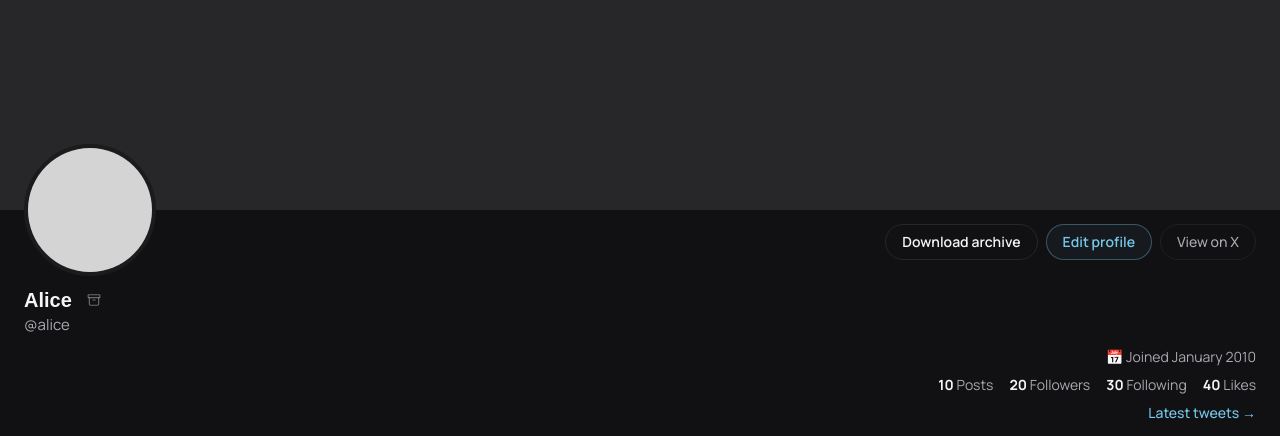
puts the owner edit control immediately before the subtle X link
What coordinates should you click on to do the following:
click the button "Edit profile"
I would click on:
 (1099, 242)
Its box is [1046,224,1152,260].
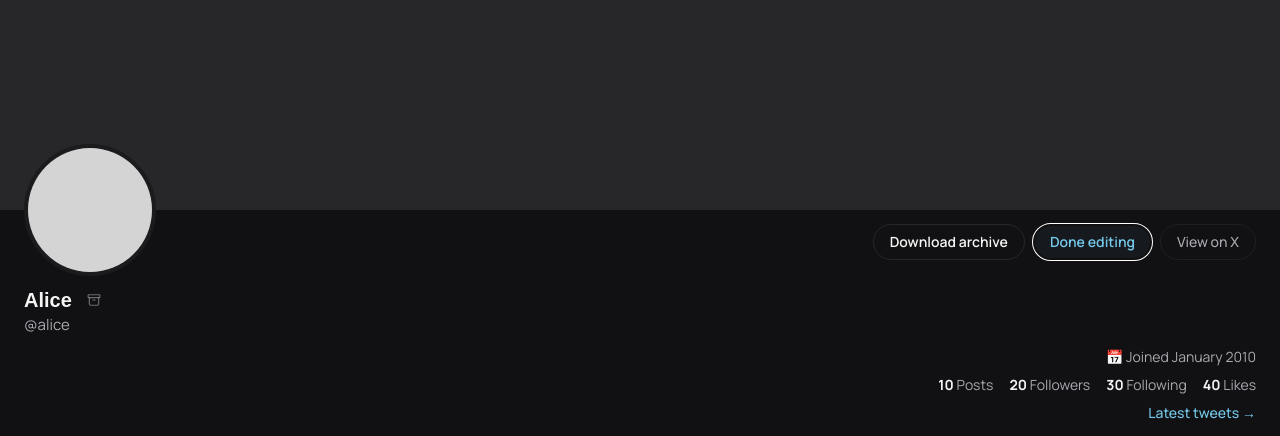
Result: the button "Done editing" is shown at [1033,224,1152,260]
